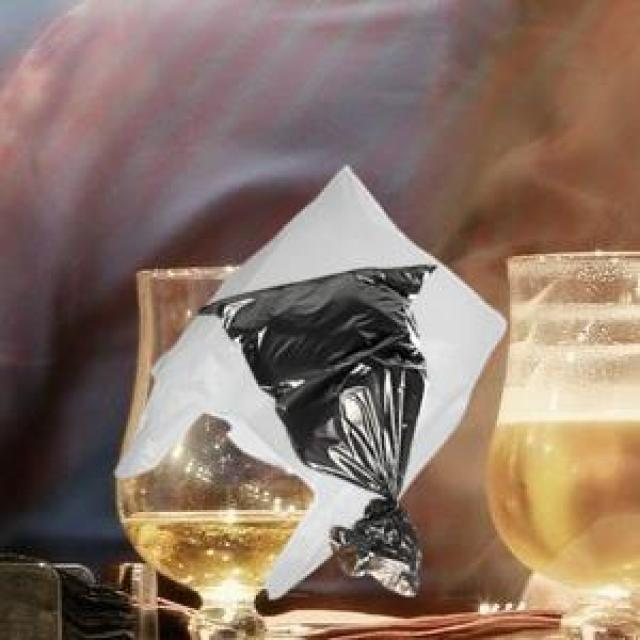miscellaneous trash: (193, 264, 431, 591)
